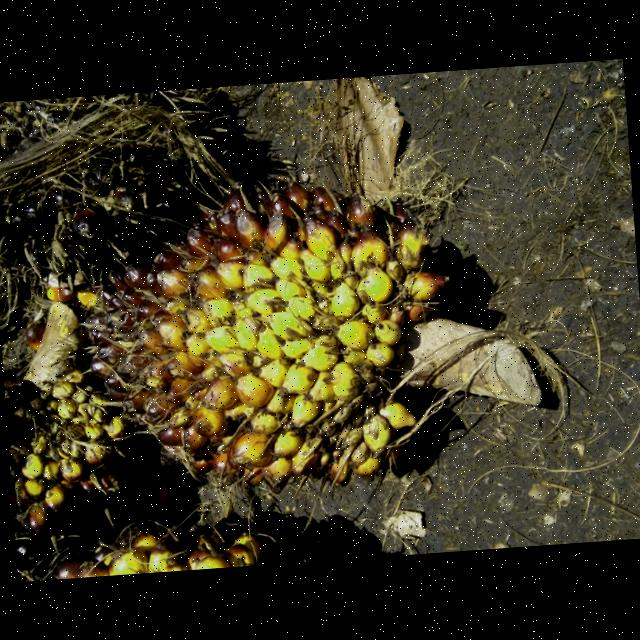Ripe: (77, 176, 540, 486), (3, 368, 127, 545), (42, 524, 278, 578)
